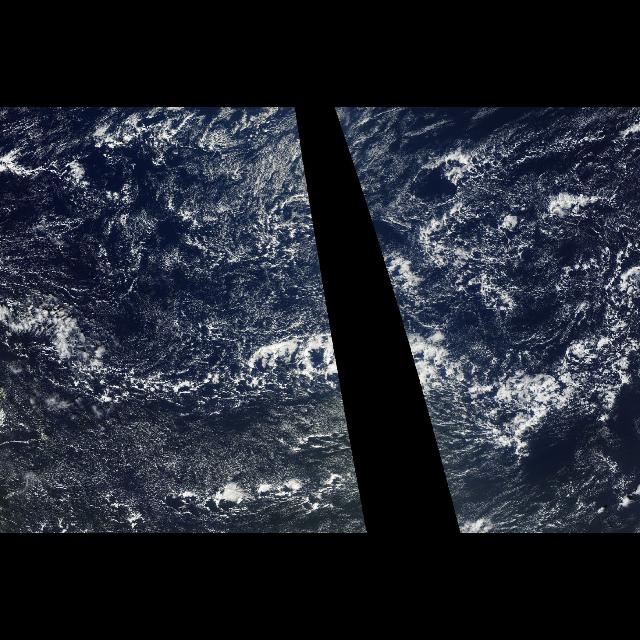Fish: (0, 297, 348, 421), (402, 322, 582, 422)
Gravel: (10, 129, 306, 303), (382, 128, 636, 328), (41, 479, 366, 533)
Sugar: (4, 119, 360, 487), (337, 119, 427, 291), (425, 410, 471, 474)
